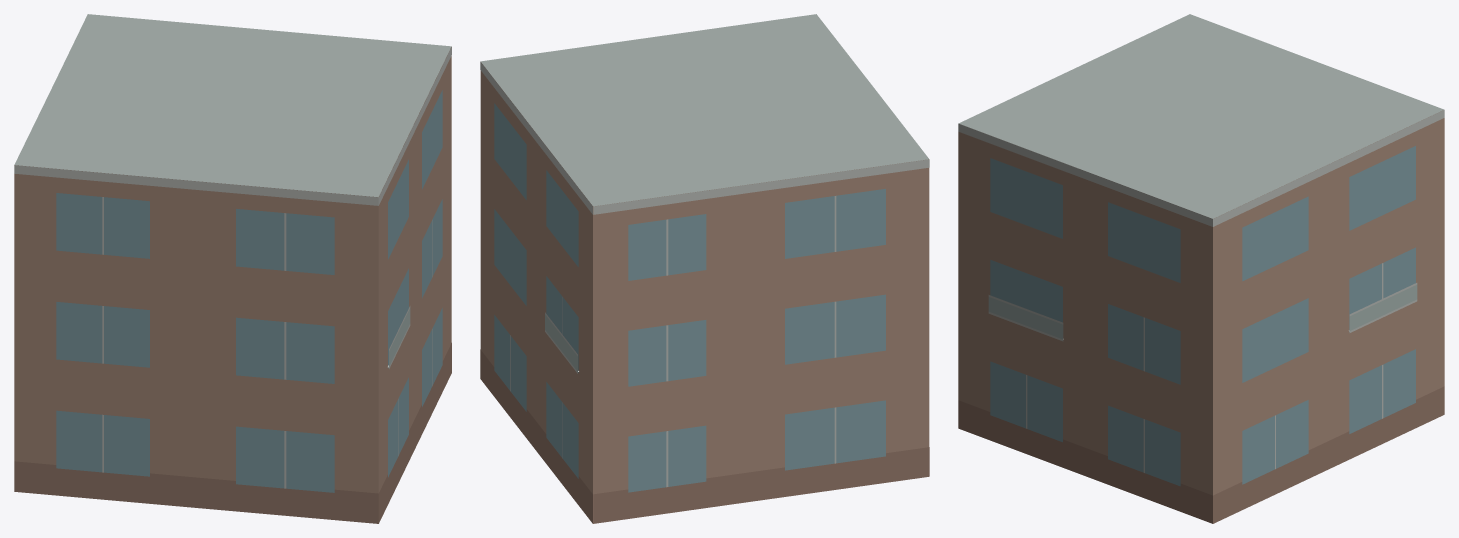
File: survey-upis-32778401.glb
The picture shows the model from 3 angles, left to right: view 1: azimuth 30°, elevation 25°; view 2: azimuth 150°, elevation 25°; view 3: azimuth 270°, elevation 25°; orthographic projection. The views are drawn at different scales.
Parts seen in each view (by area): view 1: survey-upis-32778401.tmp; view 2: survey-upis-32778401.tmp; view 3: survey-upis-32778401.tmp.
Boxes of the visible parts, x1=… form: survey-upis-32778401.tmp: x1=14, y1=14, x2=451, y2=523; survey-upis-32778401.tmp: x1=480, y1=14, x2=929, y2=523; survey-upis-32778401.tmp: x1=958, y1=14, x2=1444, y2=523.
Size of the model in its own units: 13.19 by 9.15 by 13.23.
